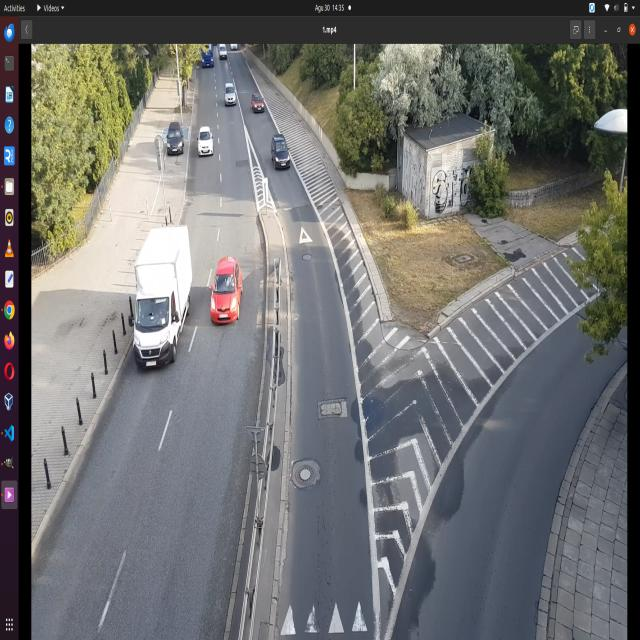person_with_seatbelt: (225, 274, 235, 290)
